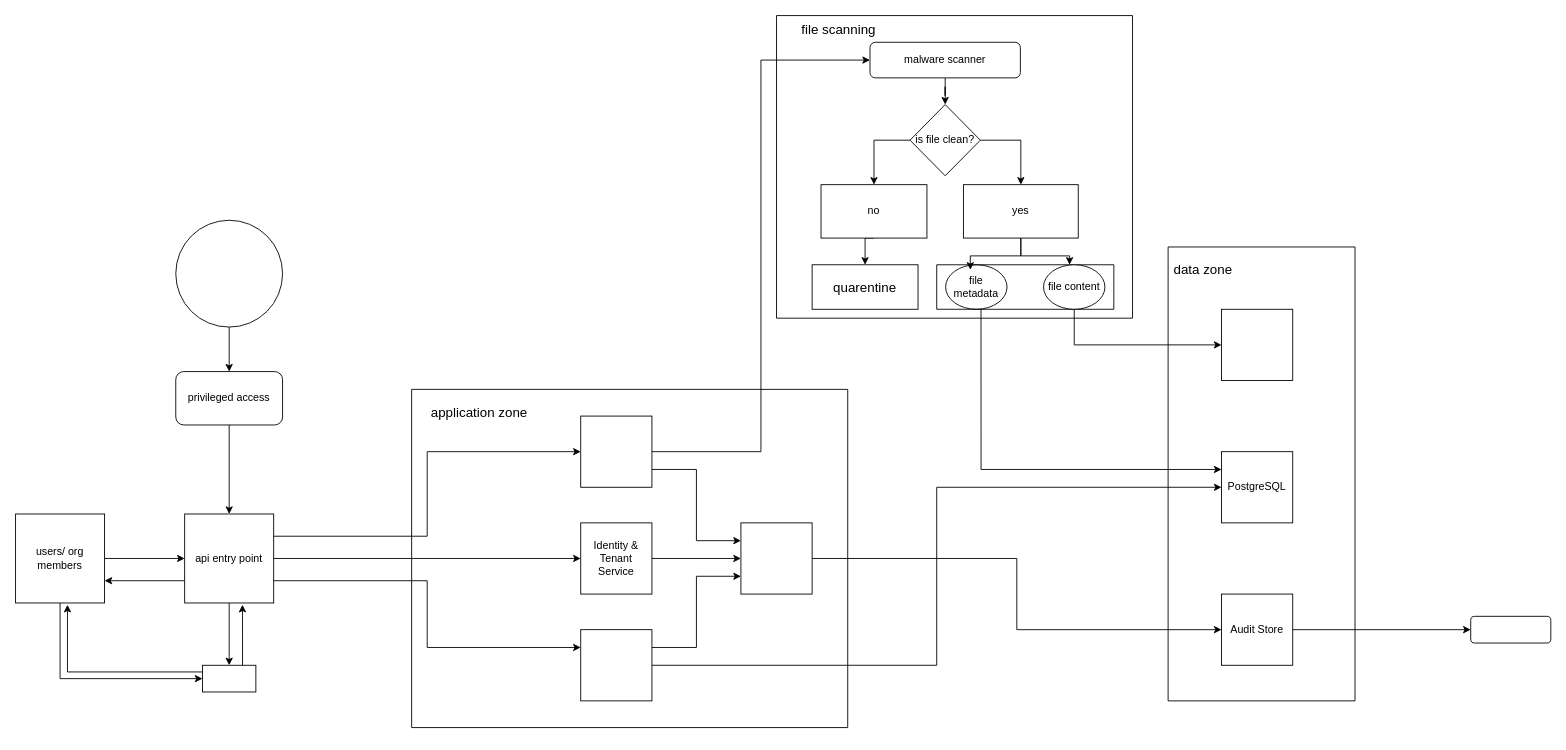
This 1566x750 diagram has some shape labels left out. Here are the shapes that lost their labels. From the top down, the box of each, then its label:
(175, 219, 283, 327): admin/support access
(1221, 308, 1293, 380): Object Storage
(580, 415, 652, 487): File Service
(740, 522, 812, 594): Audit Service
(1470, 615, 1551, 643): SIEM
(202, 664, 256, 692): idp
(580, 629, 652, 701): Project Service
